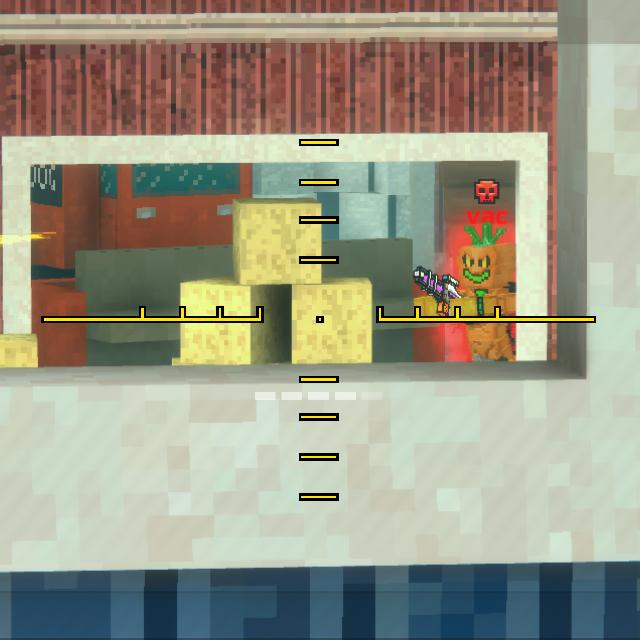Enemy: (414, 243, 517, 362)
